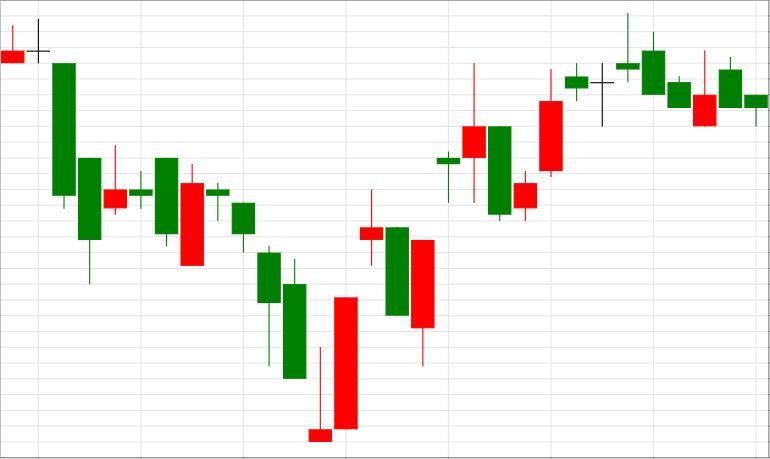evening_star_fall: (206, 183, 357, 443)
inverse_hammer_rise: (616, 13, 717, 127)
